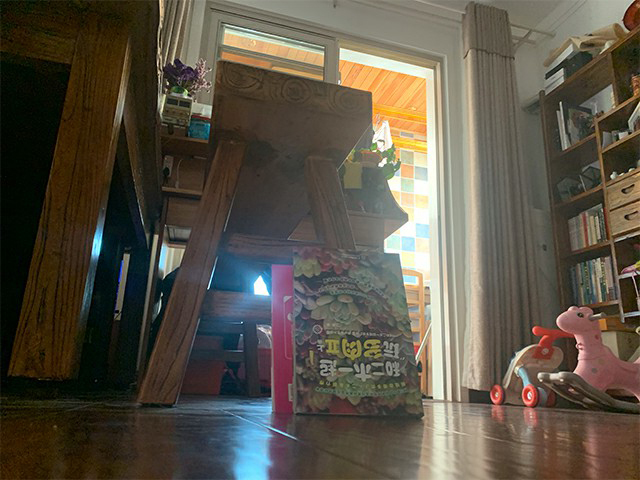book: (269, 244, 425, 418)
curtain: (461, 1, 541, 394)
stool: (135, 58, 374, 409)
